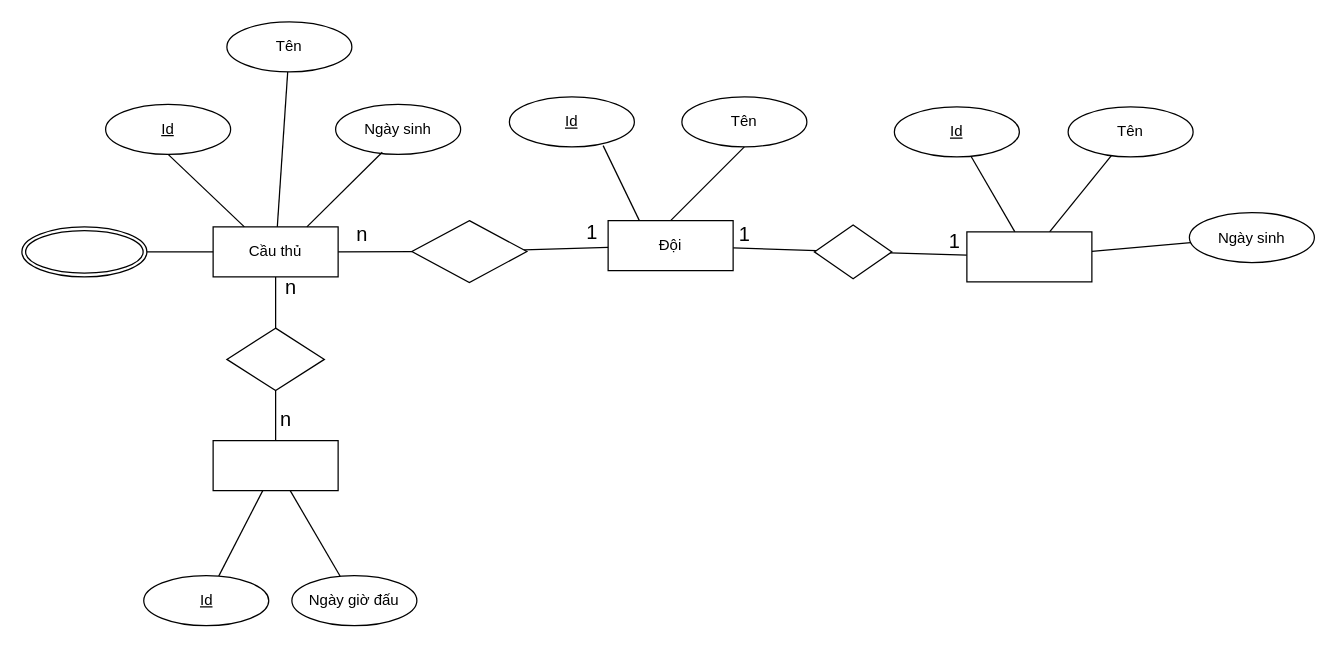
The diagram is 1336 pixels wide and 648 high, and some of its shapes have lost their labels. The shapes that lost their labels are listed below. From the top down, each one's centre as x and y in pixels, then its label:
At pixel 84 251: "Vị trí".
At pixel 469 250: "có".
At pixel 852 251: "Quản lý".
At pixel 1029 256: "Huấn luyện viên".
At pixel 275 359: "tham gia".
At pixel 275 465: "Trận đấu".
